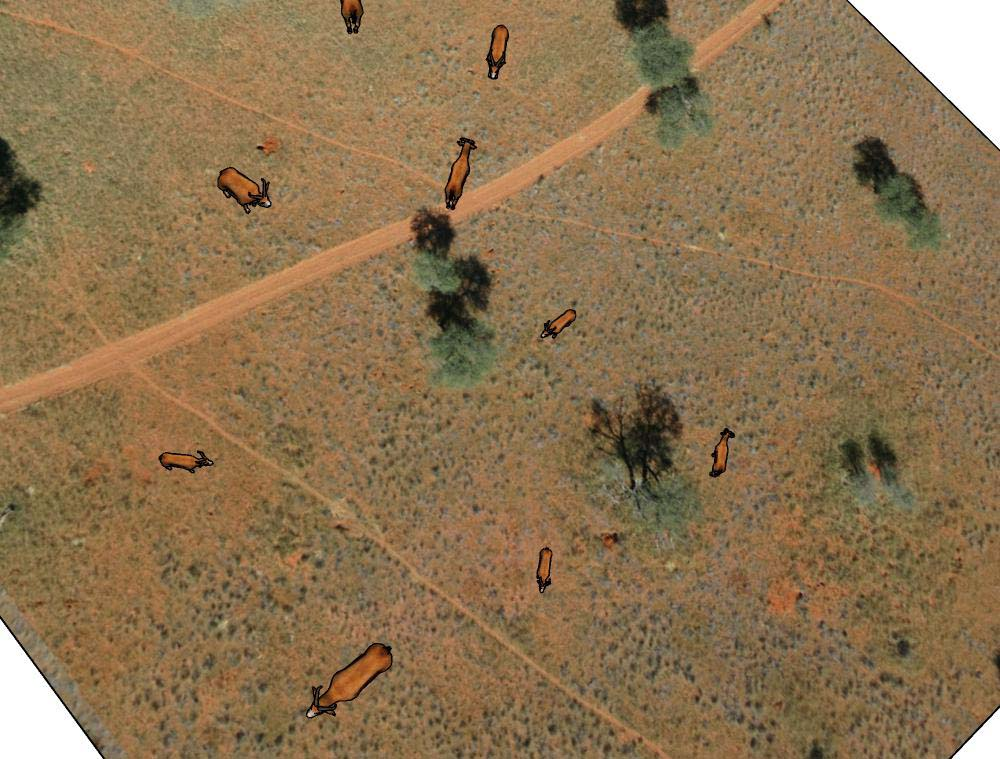springbok: (301, 640, 396, 717), (207, 161, 278, 219), (439, 136, 483, 209), (153, 442, 213, 479), (481, 23, 513, 83), (707, 426, 740, 482), (538, 305, 578, 344), (330, 1, 368, 36), (533, 544, 557, 592)
